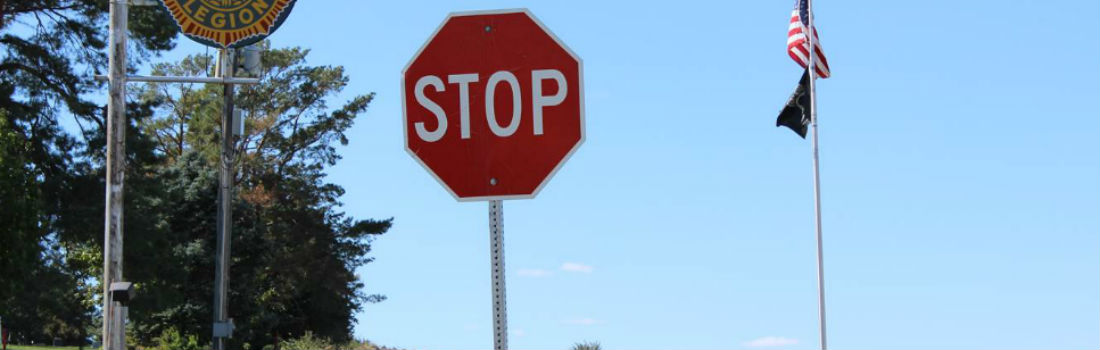stop: (400, 9, 581, 204), (426, 10, 583, 203), (402, 35, 581, 202), (399, 8, 585, 149), (399, 8, 518, 204)
